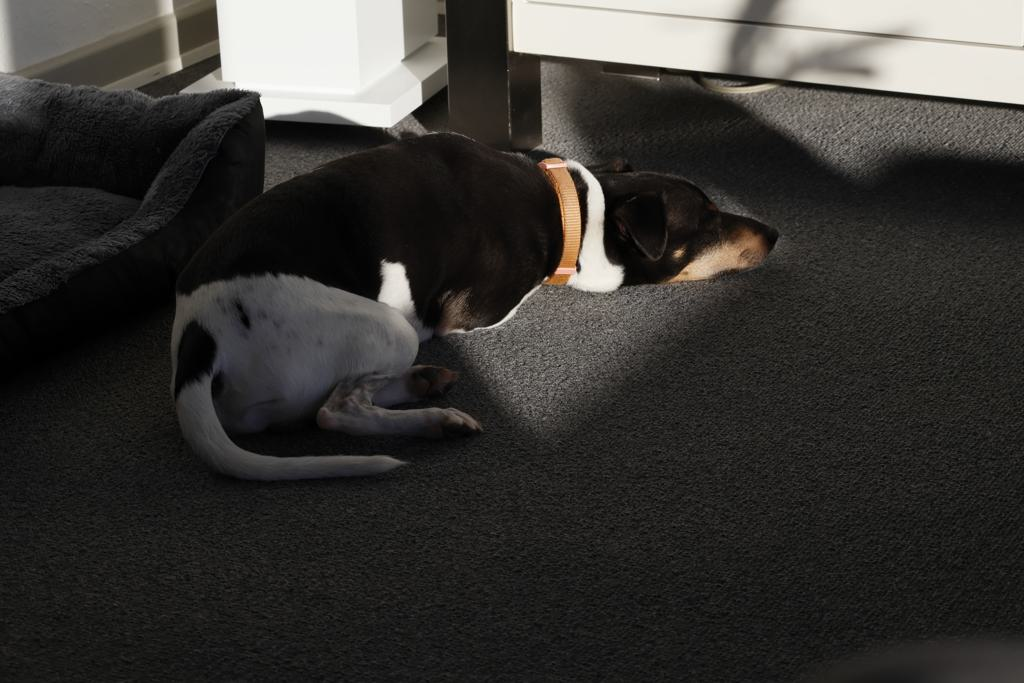Dog: (160, 125, 788, 489)
